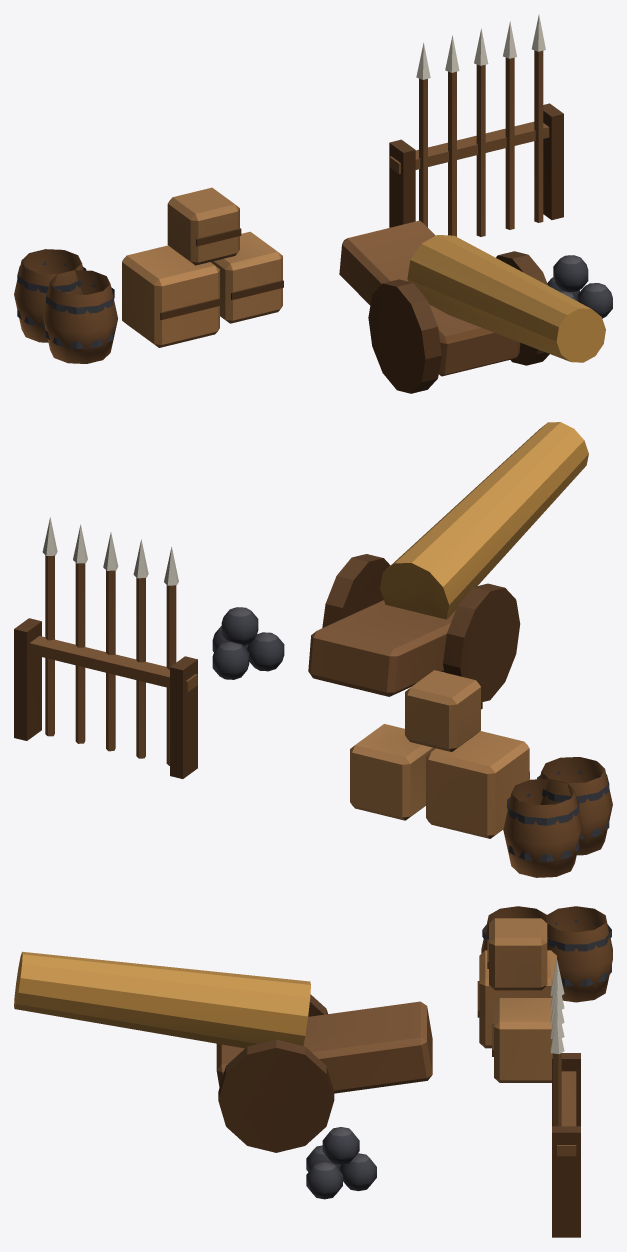
The model's file is city_supplies.glb.
3 views of the same model, one above another, from view 1: azimuth 30°, elevation 25°; view 2: azimuth 150°, elevation 25°; view 3: azimuth 270°, elevation 25° (orthographic). The views are drawn at different scales.
Visible parts, largest first — view 1: city_supplies; view 2: city_supplies; view 3: city_supplies.
Boxes of the visible parts, bbox=[...] form: city_supplies: bbox=[14, 14, 612, 393]; city_supplies: bbox=[14, 422, 612, 877]; city_supplies: bbox=[14, 906, 612, 1237].
Bounding box in the file's own units: 0.65 × 0.24 × 0.6192.
